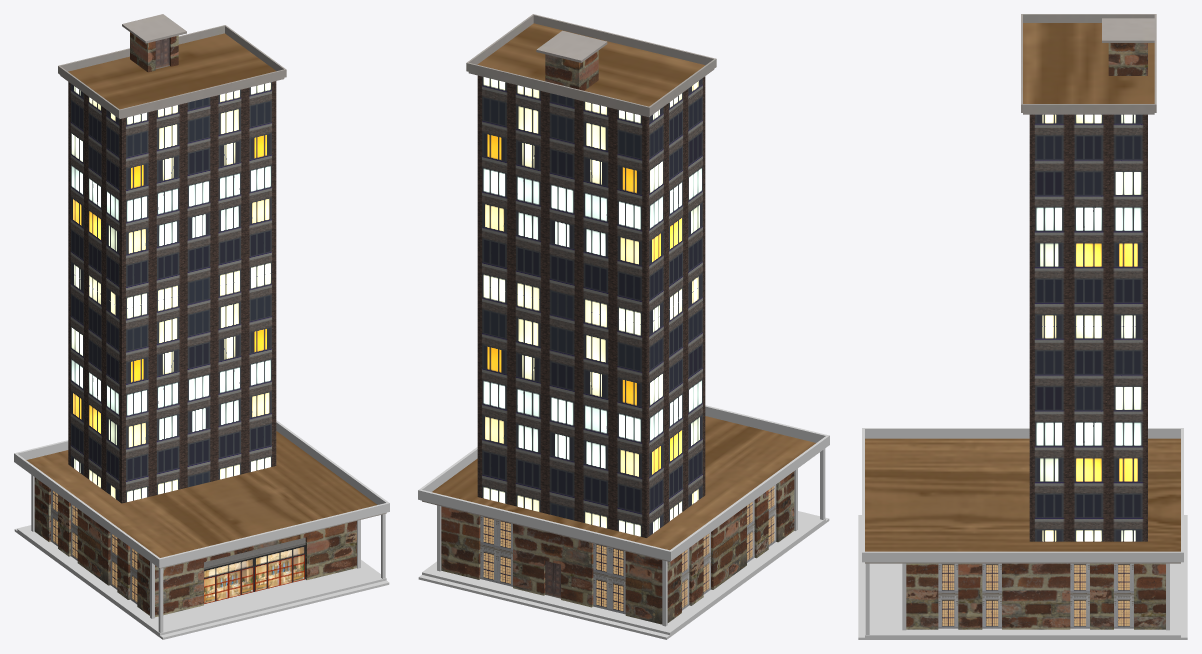
Rendered from BuildingB.fbx.
3 views of the same model, side by side, from view 1: azimuth 30°, elevation 25°; view 2: azimuth 150°, elevation 25°; view 3: azimuth 270°, elevation 25° (orthographic). The views are drawn at different scales.
Visible parts, largest first — view 1: BuildingB; view 2: BuildingB; view 3: BuildingB.
Boxes of the visible parts, x1,y1,x2,y2 form: BuildingB: (14,14,389,639); BuildingB: (418,14,829,639); BuildingB: (858,14,1187,639).
Bounding box in the file's own units: 2242 × 4600 × 2500.
